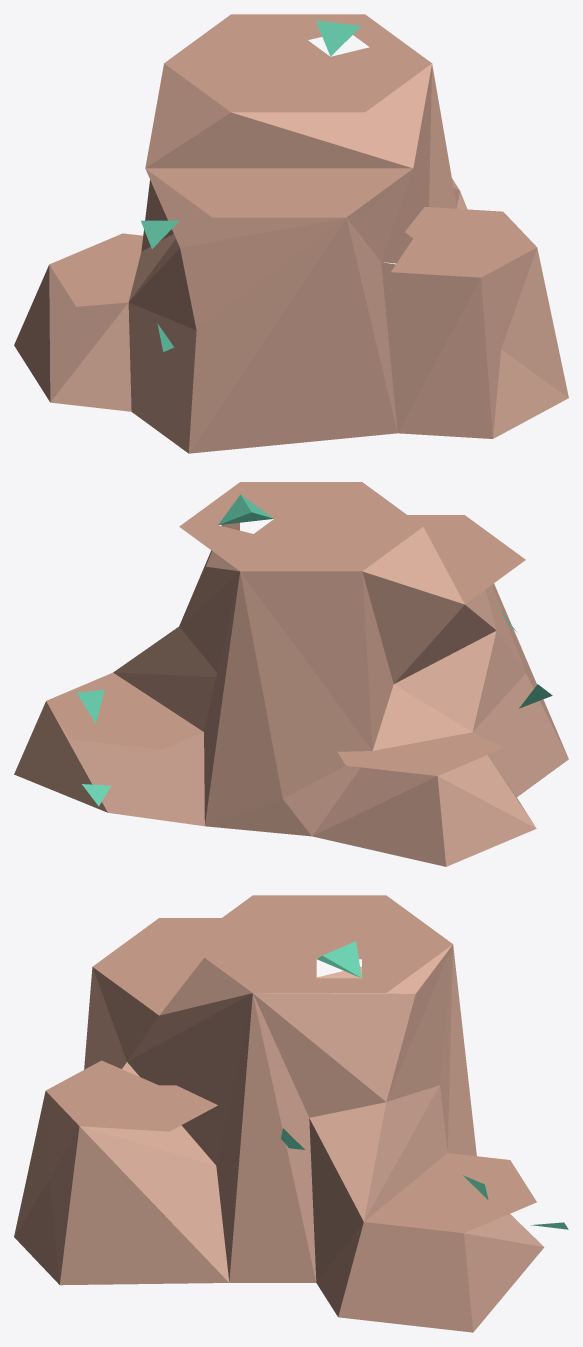
Rendered from rock_crystalsLargeB.lod.glb.
3 renders of one model, top to bottom at view 1: azimuth 30°, elevation 25°; view 2: azimuth 150°, elevation 25°; view 3: azimuth 270°, elevation 25°, orthographic. The views are drawn at different scales.
Visible parts, largest first — view 1: rock_crystalsLargeB; view 2: rock_crystalsLargeB; view 3: rock_crystalsLargeB.
Boxes of the visible parts, x1,y1,x2,y2 form: rock_crystalsLargeB: [14, 14, 568, 453]; rock_crystalsLargeB: [14, 482, 568, 866]; rock_crystalsLargeB: [14, 895, 568, 1332].
Bounding box in the file's own units: 0.9393 × 0.5375 × 0.9224.
